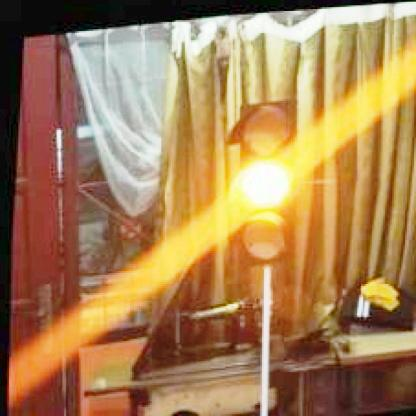Traffic Light -Yellow-: (218, 95, 299, 264)
